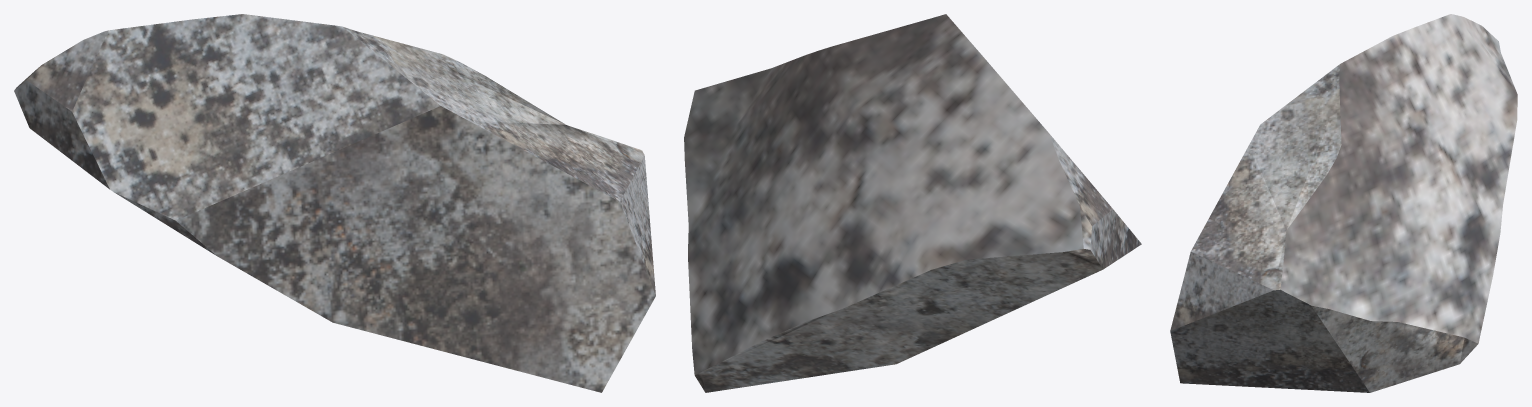
The model's file is Asteroid_Large_001_02_006_03_019.fbx.
3 renders of one model, left to right at view 1: azimuth 30°, elevation 25°; view 2: azimuth 150°, elevation 25°; view 3: azimuth 270°, elevation 25°, orthographic. The views are drawn at different scales.
Visible parts, largest first — view 1: Asteroid_Large_001_02_006_03_019; view 2: Asteroid_Large_001_02_006_03_019; view 3: Asteroid_Large_001_02_006_03_019.
Part boxes in pixels (bbox=[...]): Asteroid_Large_001_02_006_03_019: bbox=[14, 14, 655, 392]; Asteroid_Large_001_02_006_03_019: bbox=[684, 14, 1141, 392]; Asteroid_Large_001_02_006_03_019: bbox=[1170, 14, 1517, 392].
Bounding box in the file's own units: 13.7 × 8.98 × 10.73.
